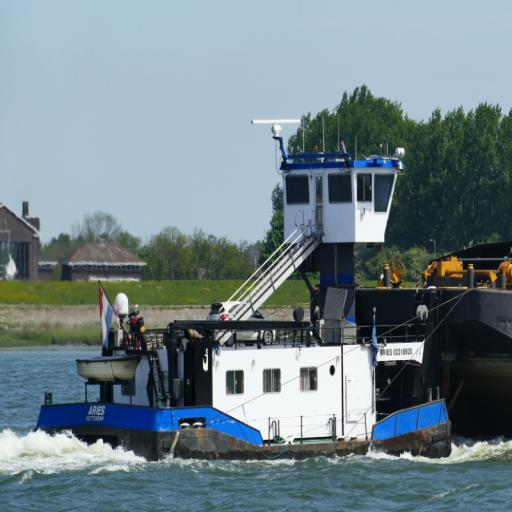tugboat: (26, 114, 461, 472)
